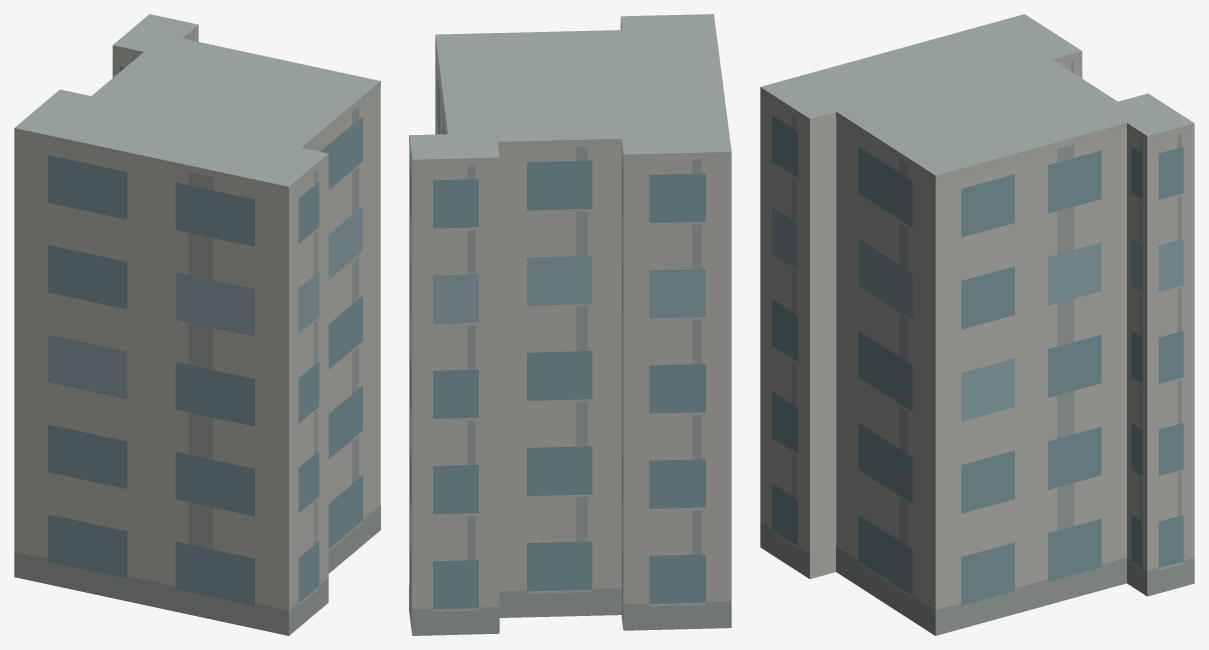
File: residential-7e3ed999-4272-4c22-aac1-e16ec23e4c5c.glb
The picture shows the model from 3 angles, left to right: view 1: azimuth 30°, elevation 25°; view 2: azimuth 150°, elevation 25°; view 3: azimuth 270°, elevation 25°; orthographic projection. The views are drawn at different scales.
Visible parts, largest first — view 1: residential-7e3ed999-4272-4c22-aac1-e16ec23e4c5c.tmp; view 2: residential-7e3ed999-4272-4c22-aac1-e16ec23e4c5c.tmp; view 3: residential-7e3ed999-4272-4c22-aac1-e16ec23e4c5c.tmp.
Boxes of the visible parts, <box> form: residential-7e3ed999-4272-4c22-aac1-e16ec23e4c5c.tmp: <box>14,14,380,635</box>; residential-7e3ed999-4272-4c22-aac1-e16ec23e4c5c.tmp: <box>409,14,731,635</box>; residential-7e3ed999-4272-4c22-aac1-e16ec23e4c5c.tmp: <box>760,14,1194,635</box>.
Bounding box in the file's own units: 12.28 × 16.3 × 13.95.
